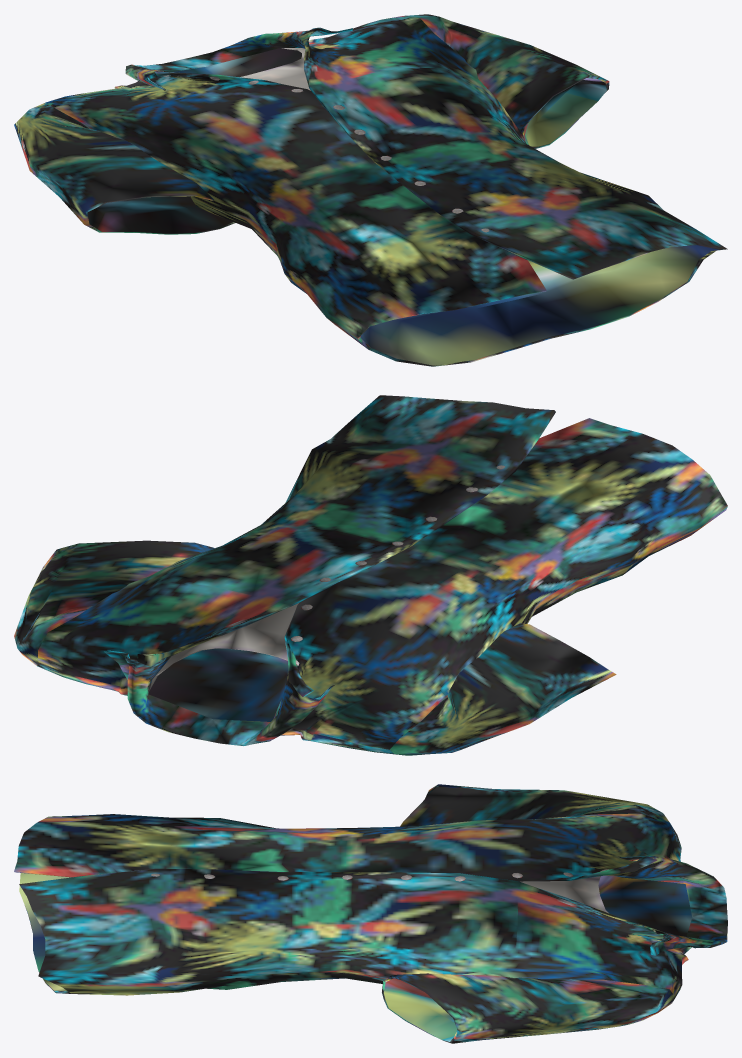
File: JungleBird_Ground.fbx
The picture shows the model from 3 angles, top to bottom: view 1: azimuth 30°, elevation 25°; view 2: azimuth 150°, elevation 25°; view 3: azimuth 270°, elevation 25°; orthographic projection. The views are drawn at different scales.
Visible parts, largest first — view 1: shirt; view 2: shirt; view 3: shirt.
Boxes of the visible parts, bbox=[...] form: shirt: bbox=[14, 14, 727, 366]; shirt: bbox=[14, 395, 727, 755]; shirt: bbox=[14, 784, 727, 1043].
Bounding box in the file's own units: 0.3345 × 0.0399 × 0.4026.
